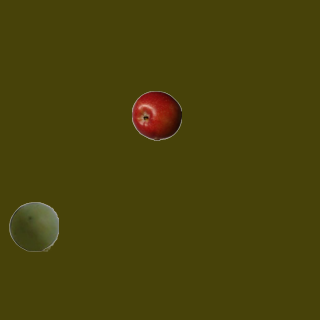Apple Braeburn: (131, 90, 181, 140)
Grape White 4: (8, 201, 58, 251)
